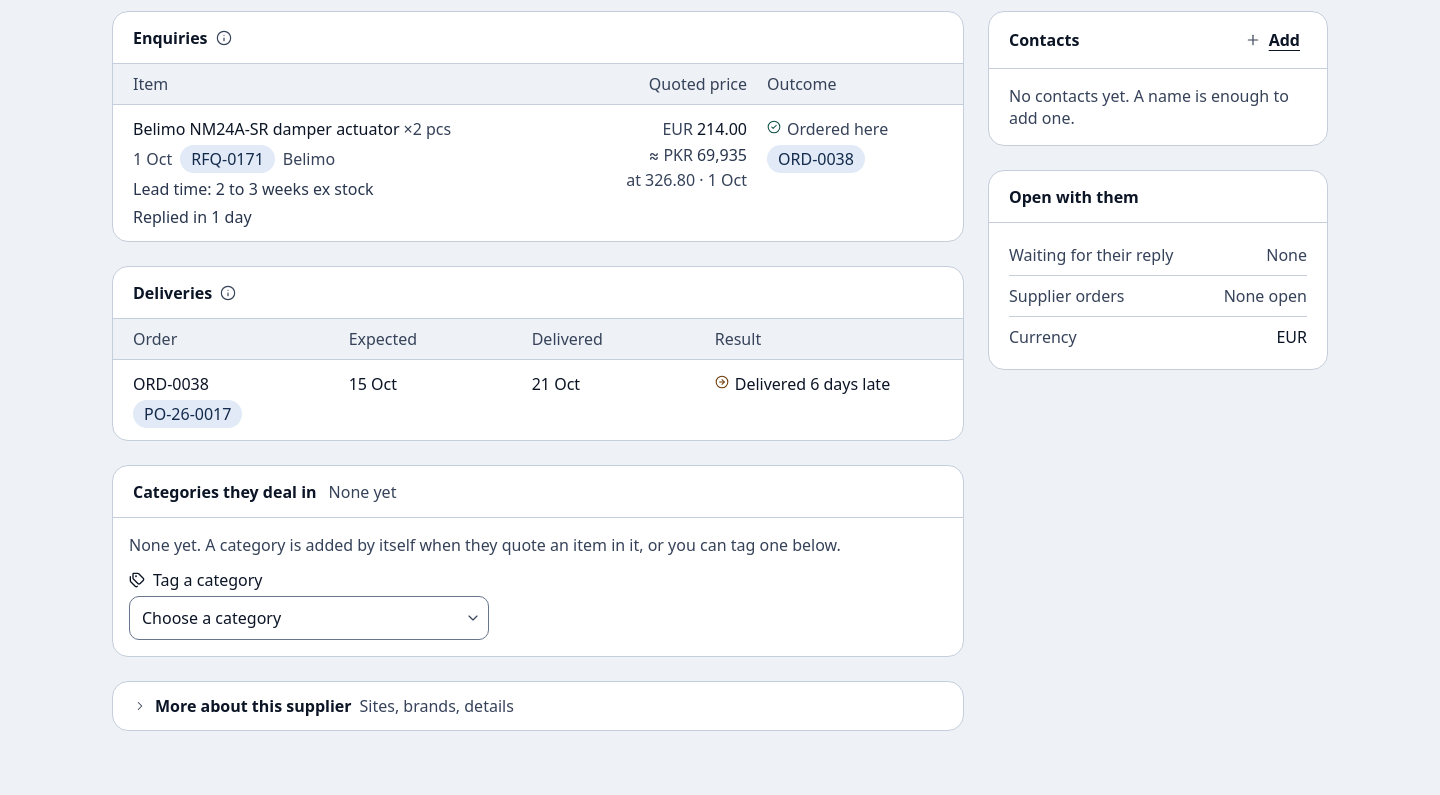
supplier page › Details (in the fold) holds the brands carried as tags, with how often each was quoted, and Add and remove
This screenshot has width=1440, height=795.
(page scrolled)
Click the heading "More about this supplier" at (323, 706), box [133,695,514,717]
(page scrolled)
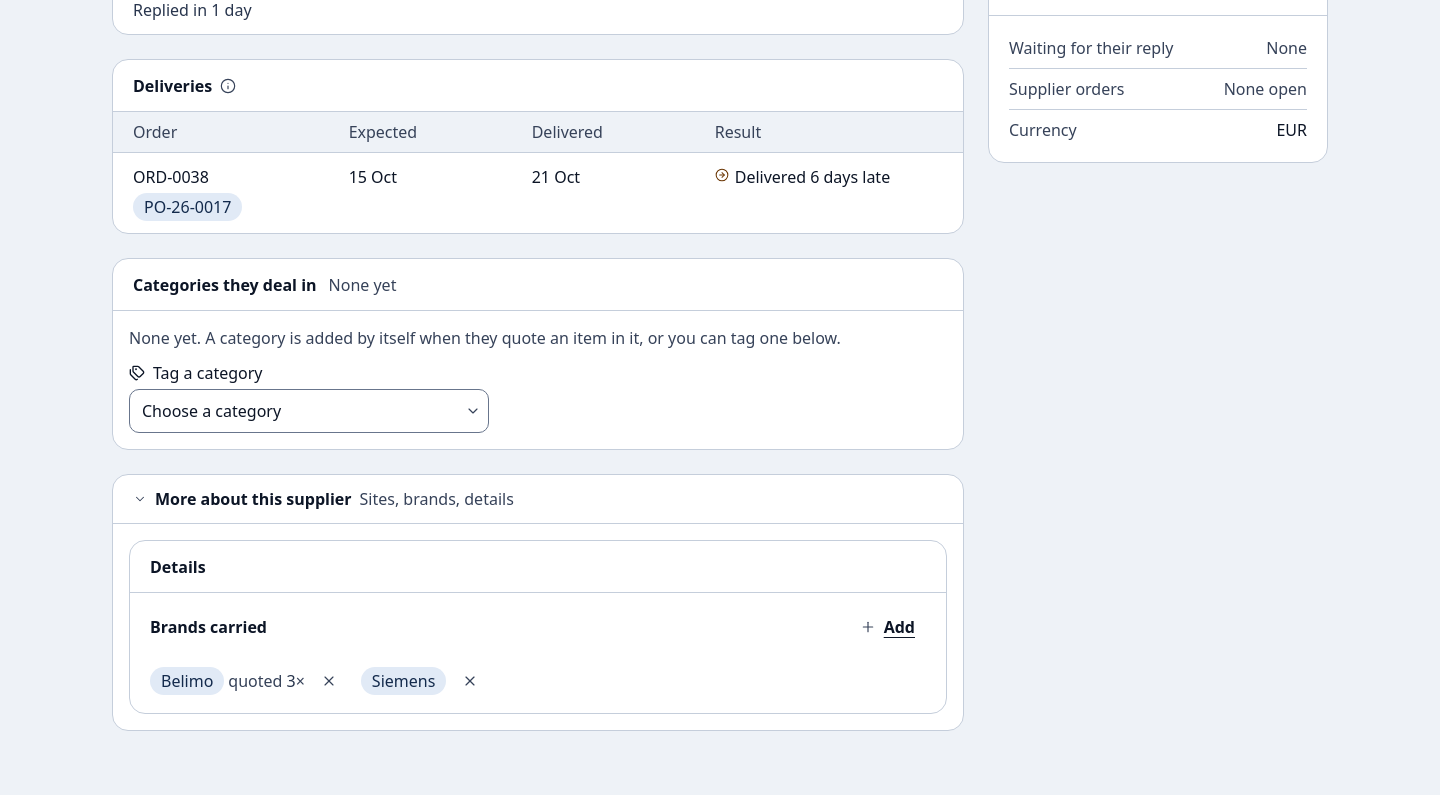
Expected: the list item "Siemens" does not show "quoted", [361,661,490,701]
Result: the list item "Belimo" shows "quoted 3×" at [150,661,349,701]
Click the button named "Remove Siemens" at (470, 681), box [450,661,490,701]
(page scrolled)
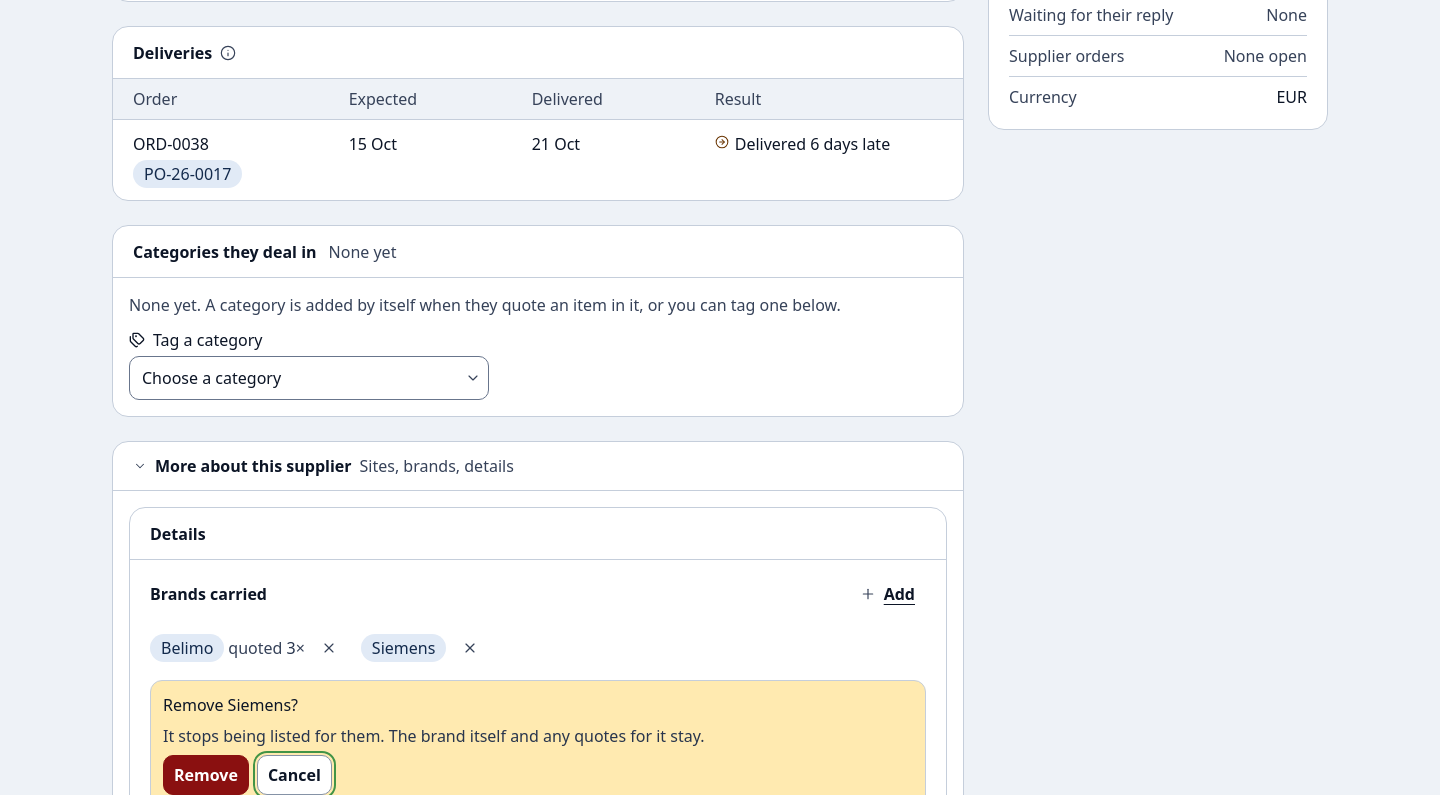
Click the button "Add" at (887, 594), box [849,574,926,614]
(page scrolled)
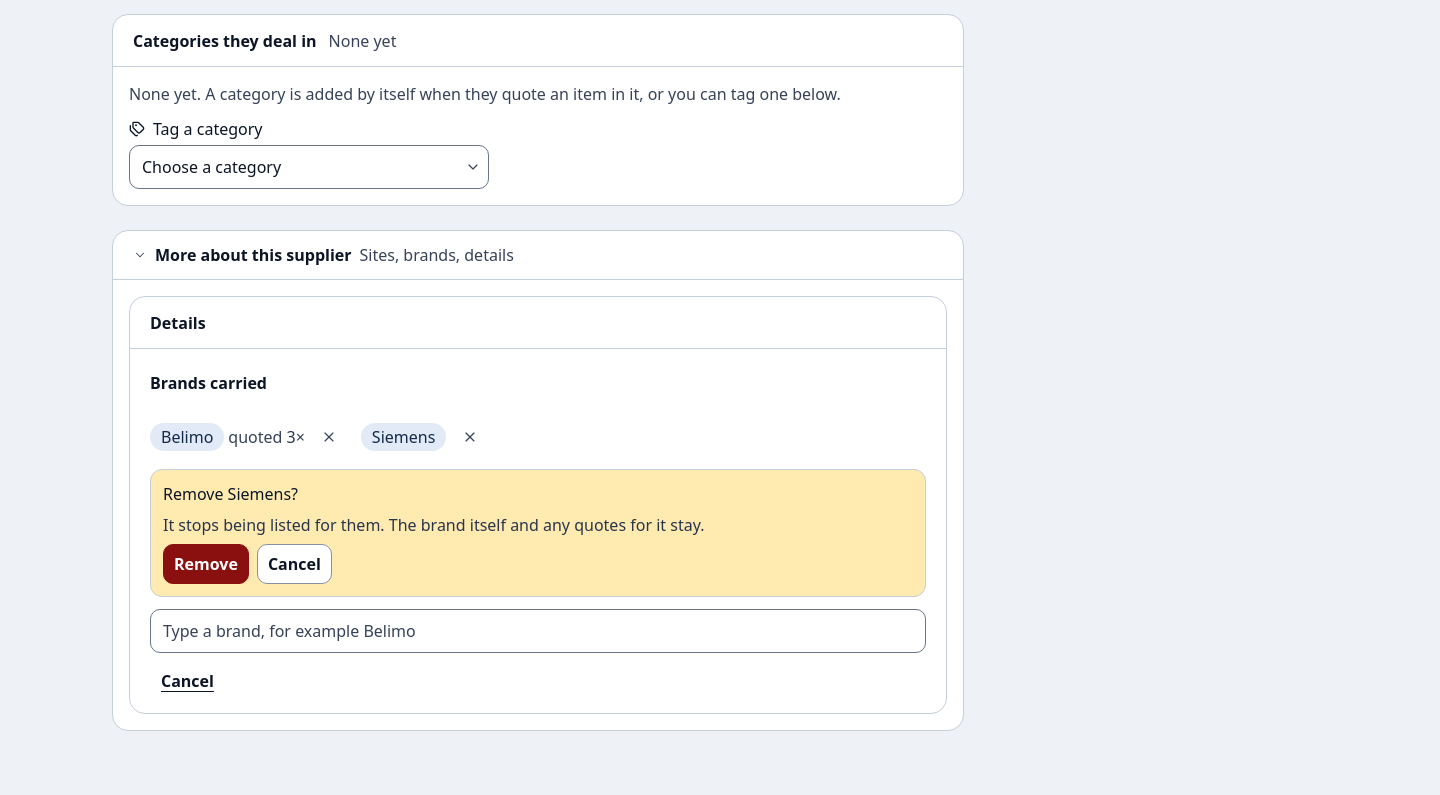
Result: the dropdown named "Brand or product family" is shown at [150,609,926,653]
